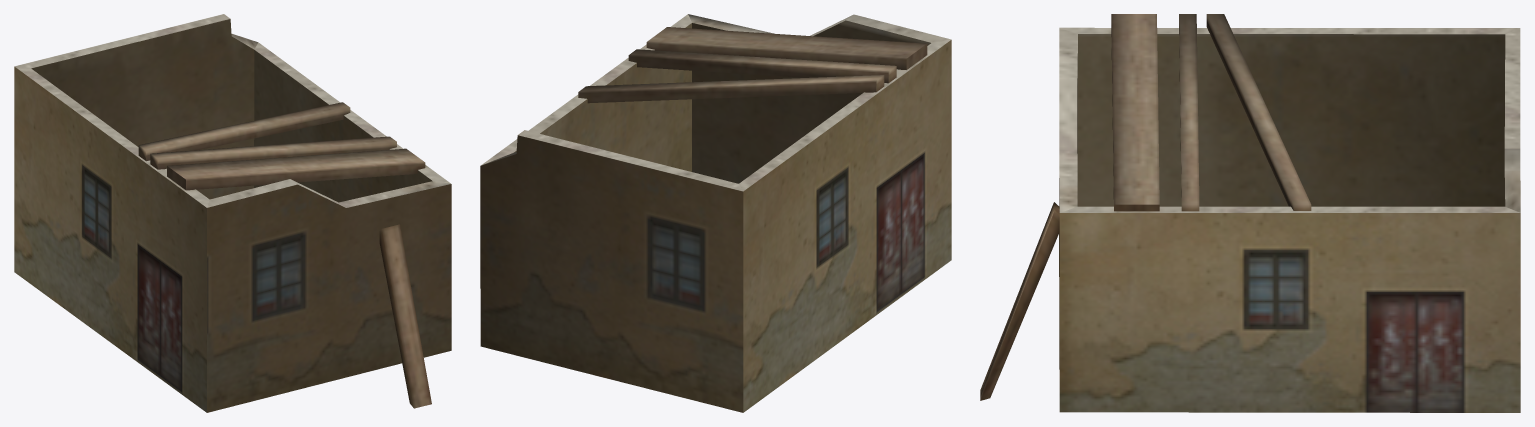
Rendered from Desert_House_C_02.glb.
3 renders of one model, left to right at view 1: azimuth 30°, elevation 25°; view 2: azimuth 150°, elevation 25°; view 3: azimuth 270°, elevation 25°, orthographic. The views are drawn at different scales.
Parts seen in each view (by area): view 1: Desert_House_C_02; view 2: Desert_House_C_02; view 3: Desert_House_C_02.
Part boxes in pixels (<box>): Desert_House_C_02: <box>14,14,451,412</box>; Desert_House_C_02: <box>480,14,951,412</box>; Desert_House_C_02: <box>980,14,1520,412</box>.
Size of the model in its own units: 0.7825 by 0.7053 by 1.25.
1 material, 1 textured.
